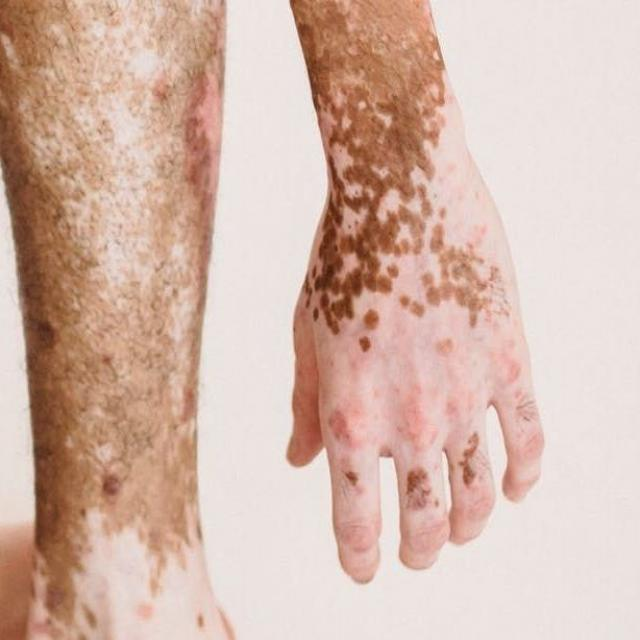vitiligo: (0, 5, 214, 640), (293, 1, 536, 532)
